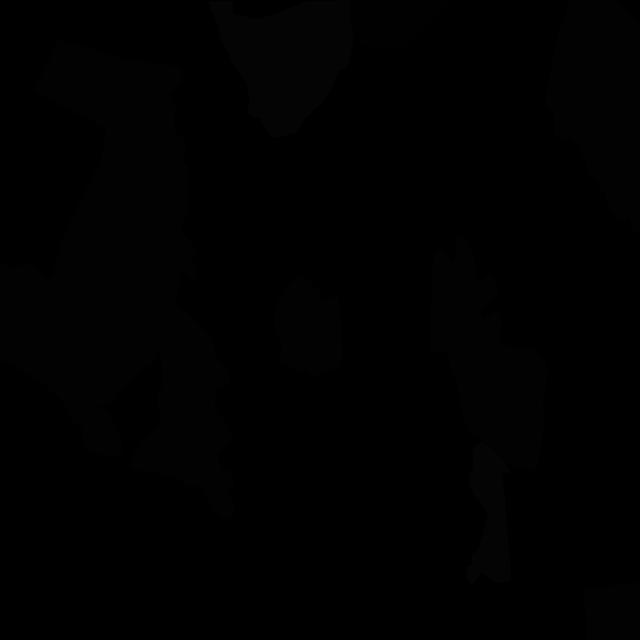cardboard: (0, 38, 198, 457), (129, 301, 236, 521), (544, 0, 640, 236), (455, 340, 548, 471), (430, 236, 502, 377), (274, 276, 343, 377), (582, 582, 640, 640)
rigid_plastic: (350, 0, 448, 50)
soft_plastic: (207, 0, 354, 137), (466, 441, 511, 584)
